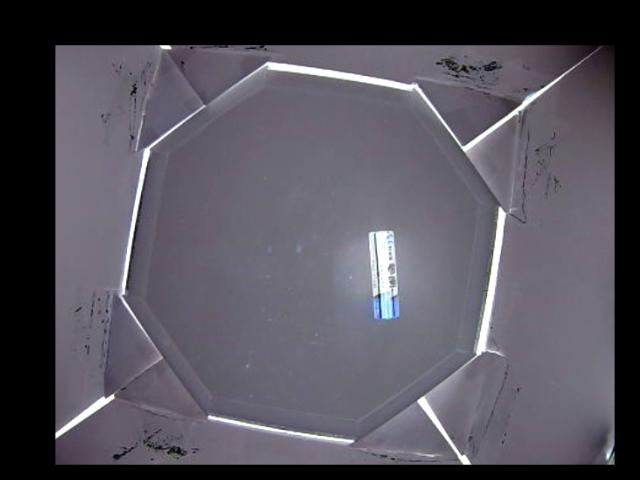Battery: (369, 230, 398, 319)
